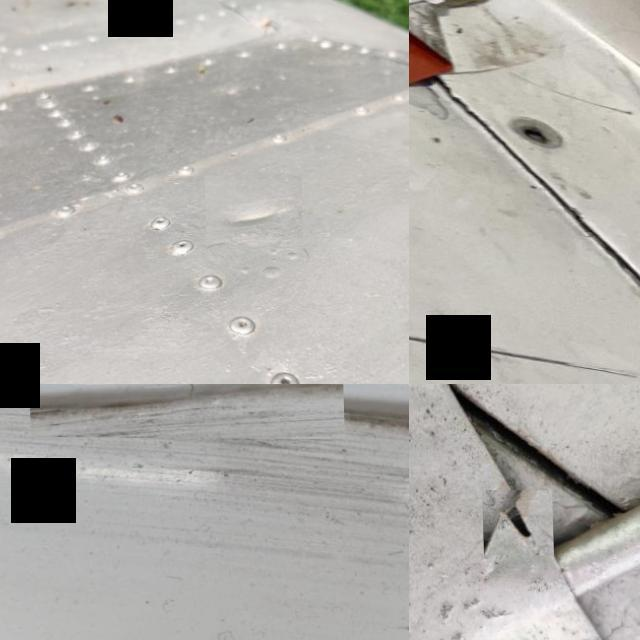Crack: (23, 384, 341, 439), (480, 490, 552, 554)
Dent: (202, 175, 302, 262)
Missing_Fastener: (516, 118, 549, 145)
